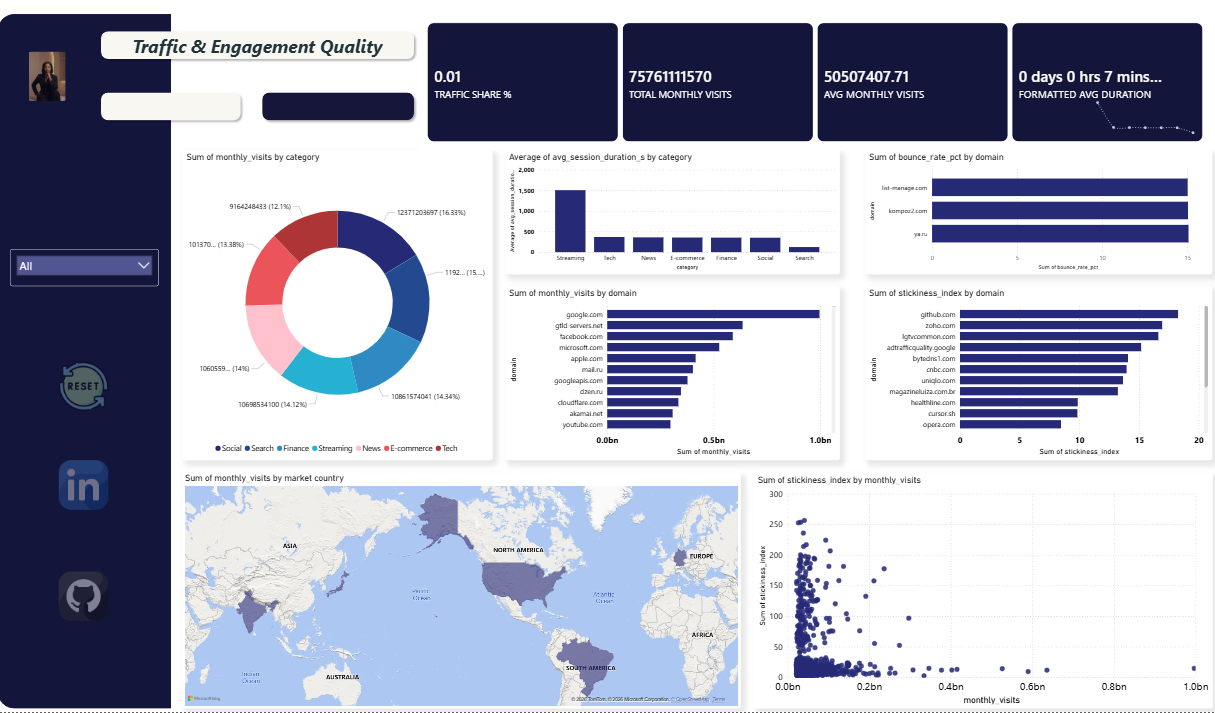

What the dashboard file says about the page in this screenshot:
{"tool":"powerbi","page":{"name":"Traffic & Engagement Quality","canvas":[2500,1400],"ordinal":0},"visuals":[{"type":"shape","box":[120,48,336,1344],"z":0},{"type":"shape","box":[480,936,1080,456],"z":1000},{"type":"clusteredBarChart","fields":{"Y":["Sum(fac_table.monthly_visits)"],"Category":["Dim_Domain.domain"]},"box":[1104,576,648,336],"z":2000},{"type":"filledMap","fields":{"Category":["Dim_Market.market country"]},"box":[480,936,1080,456],"z":3000},{"type":"donutChart","fields":{"Category":["Dim_category.category"],"Y":["Sum(fac_table.monthly_visits)"]},"box":[480,312,600,600],"z":4000},{"type":"barChart","fields":{"Category":["Dim_Domain.domain"],"Y":["Sum(fac_table.bounce_rate_pct)"]},"box":[1800,312,672,240],"z":5000},{"type":"clusteredColumnChart","fields":{"Category":["Dim_category.category"],"Y":["Avg(fac_table.avg_session_duration_s)"]},"box":[1104,312,648,240],"z":6000},{"type":"cardVisual","fields":{"Data":["fac_table.TRAFFIC SHARE %","fac_table.TOTAL MONTHLY VISITS","Avg(fac_table.monthly_visits)","fac_table.Formatted Avg Duration"]},"box":[936,48,1536,264],"z":7000,"group":"g1"},{"type":"scatterChart","fields":{"X":["fac_table.monthly_visits"],"Y":["Sum(fac_table.stickiness_index)"]},"box":[1584,936,888,456],"z":7000},{"type":"barChart","fields":{"Category":["Dim_Domain.domain"],"Y":["Sum(fac_table.stickiness_index)"]},"box":[1800,576,672,336],"z":8000},{"type":"group","id":"g1","title":"Group 1","box":[936,48,1536,264],"z":9000},{"type":"lineChart","fields":{"Category":["Dim_category.category"],"Y":["fac_table.AVERAGESESSION(MIN)"]},"box":[2232.6,192,219.4,96],"z":9500,"group":"g1"},{"type":"shape","box":[312,192,288,72],"z":10000},{"type":"shape","title":"Traffic & Engagement Quality","box":[312,72,624,72],"z":11000},{"type":"shape","box":[624,192,312,72],"z":12000},{"type":"slicer","fields":{"Values":["Dim_category.category"]},"box":[144,504,288,72],"z":13000},{"type":"image","box":[240,888,96,144],"z":14000},{"type":"image","box":[240,1128,96,96],"z":15000},{"type":"image","box":[240,720,96,96],"z":16000},{"type":"image","box":[144,120,144,96],"z":17000}]}

Visuals, with their boxes on the page's 2500x1400 design canvas (x1, y1, x2, y2). These are canvas units, not pixel positions in the 1215x713 screenshot, which may show the page scaled, cropped or inside an application window:
shape: 120:48:456:1392
shape: 480:936:1560:1392
clusteredBarChart - Sum(fac_table.monthly_visits) x Dim_Domain.domain: 1104:576:1752:912
filledMap - Dim_Market.market country: 480:936:1560:1392
donutChart - Dim_category.category x Sum(fac_table.monthly_visits): 480:312:1080:912
barChart - Dim_Domain.domain x Sum(fac_table.bounce_rate_pct): 1800:312:2472:552
clusteredColumnChart - Dim_category.category x Avg(fac_table.avg_session_duration_s): 1104:312:1752:552
cardVisual - fac_table.TRAFFIC SHARE % x fac_table.TOTAL MONTHLY VISITS: 936:48:2472:312
scatterChart - fac_table.monthly_visits x Sum(fac_table.stickiness_index): 1584:936:2472:1392
barChart - Dim_Domain.domain x Sum(fac_table.stickiness_index): 1800:576:2472:912
"Group 1" group: 936:48:2472:312
lineChart - Dim_category.category x fac_table.AVERAGESESSION(MIN): 2233:192:2452:288
shape: 312:192:600:264
"Traffic & Engagement Quality" shape: 312:72:936:144
shape: 624:192:936:264
slicer - Dim_category.category: 144:504:432:576
image: 240:888:336:1032
image: 240:1128:336:1224
image: 240:720:336:816
image: 144:120:288:216
